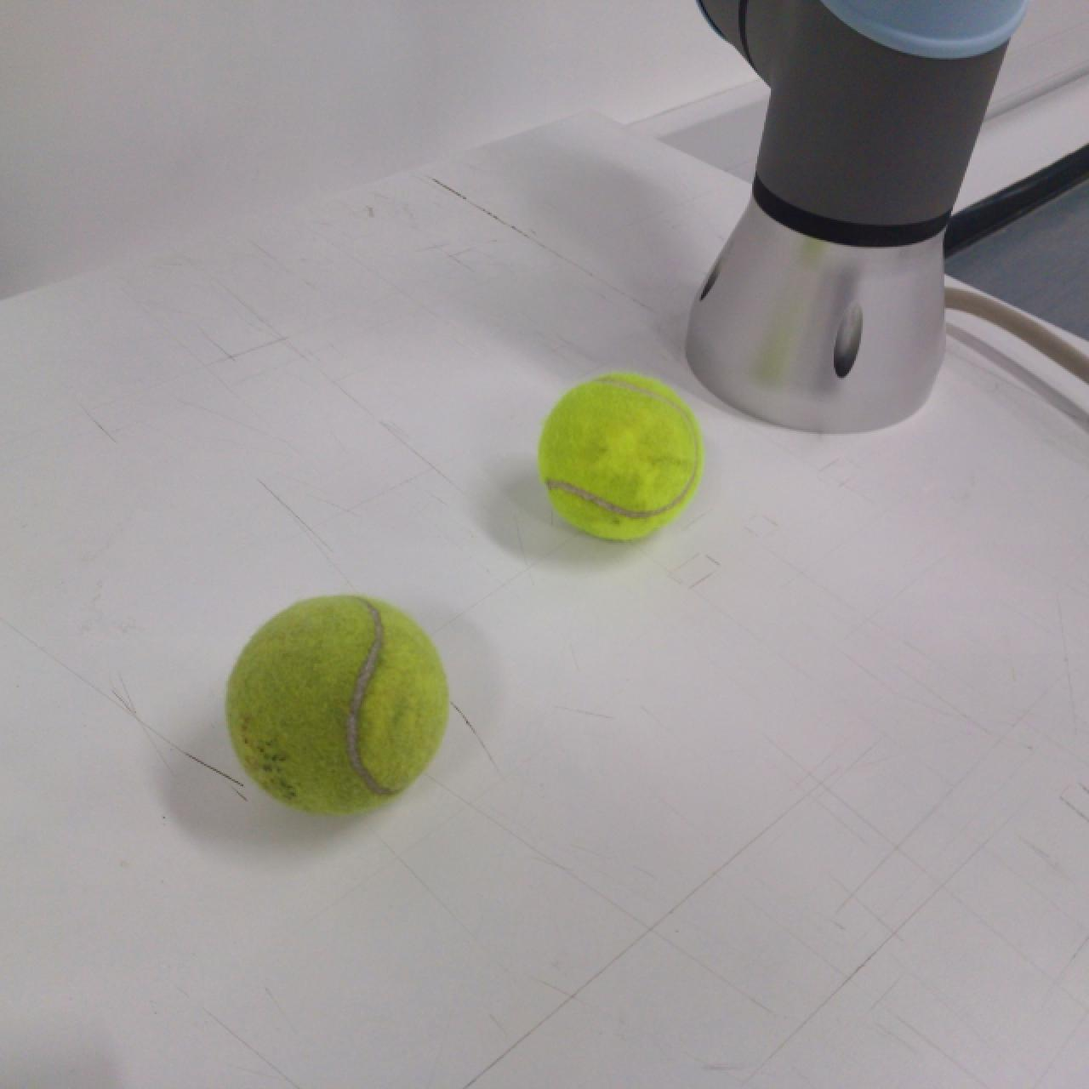tennis-ball: (224, 591, 449, 809), (538, 371, 704, 542)
